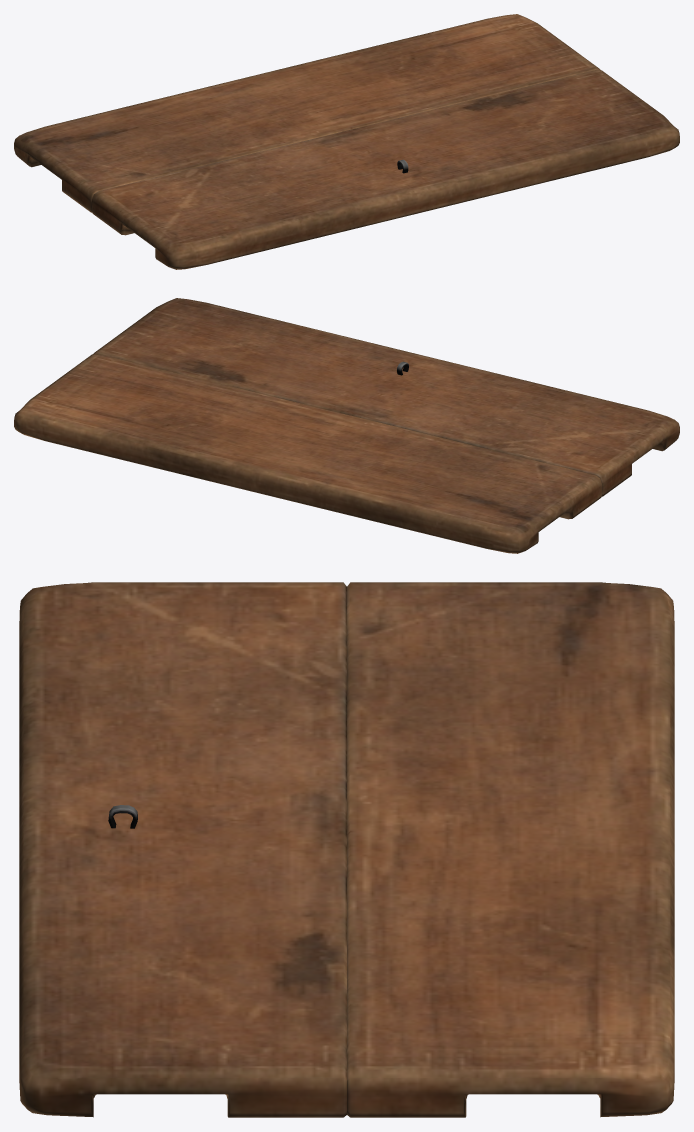
The model's file is wooden_crate_01_lid.glb.
3 renders of one model, top to bottom at view 1: azimuth 30°, elevation 25°; view 2: azimuth 150°, elevation 25°; view 3: azimuth 270°, elevation 25°, orthographic. The views are drawn at different scales.
Visible parts, largest first — view 1: wooden_crate_01_lid; view 2: wooden_crate_01_lid; view 3: wooden_crate_01_lid.
Boxes of the visible parts, x1,y1,x2,y2 form: wooden_crate_01_lid: [14, 14, 679, 269]; wooden_crate_01_lid: [14, 298, 679, 553]; wooden_crate_01_lid: [19, 582, 674, 1117].
Bounding box in the file's own units: 0.7078 × 0.0422 × 0.3923.
1 material, 1 textured.
